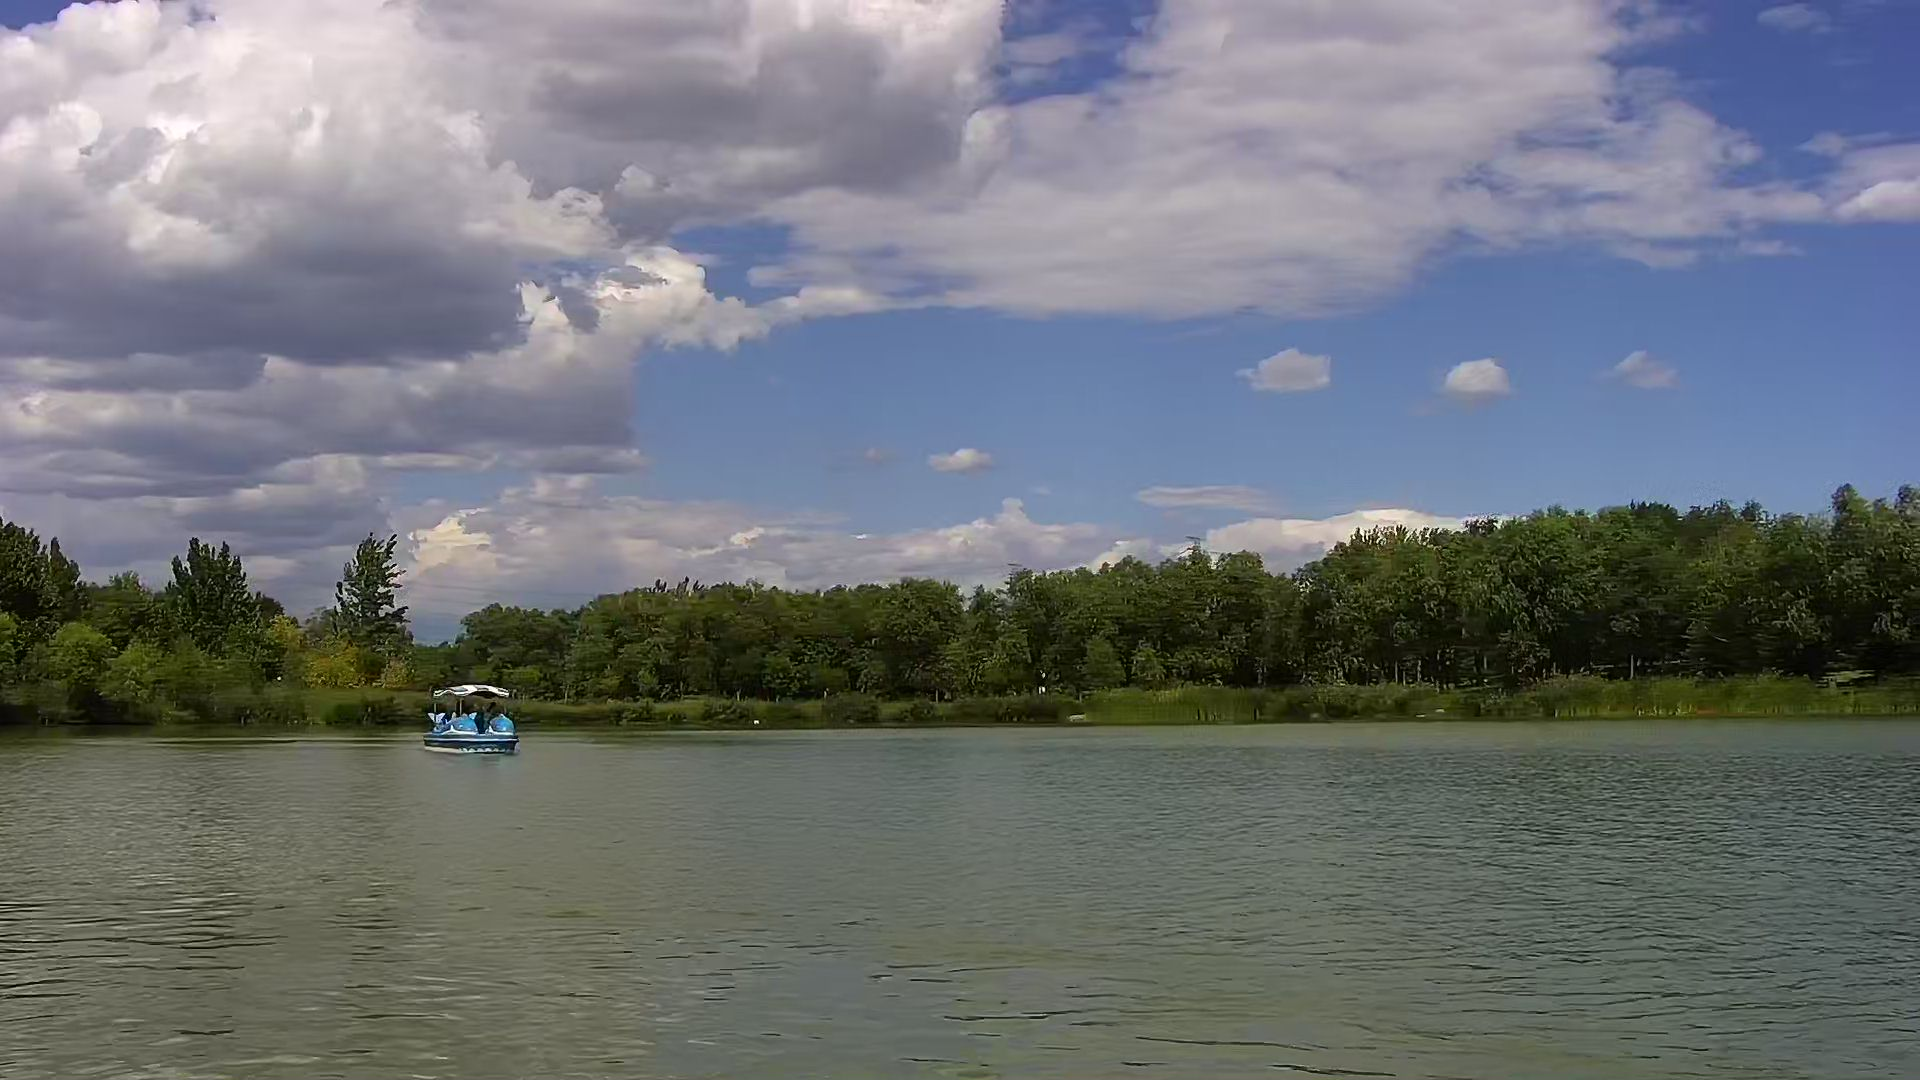boat: (415, 676, 517, 769)
